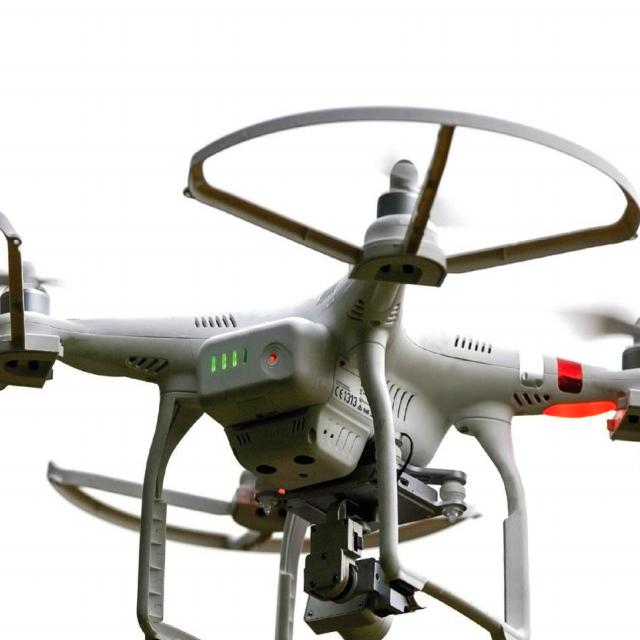drone: (0, 139, 640, 630)
